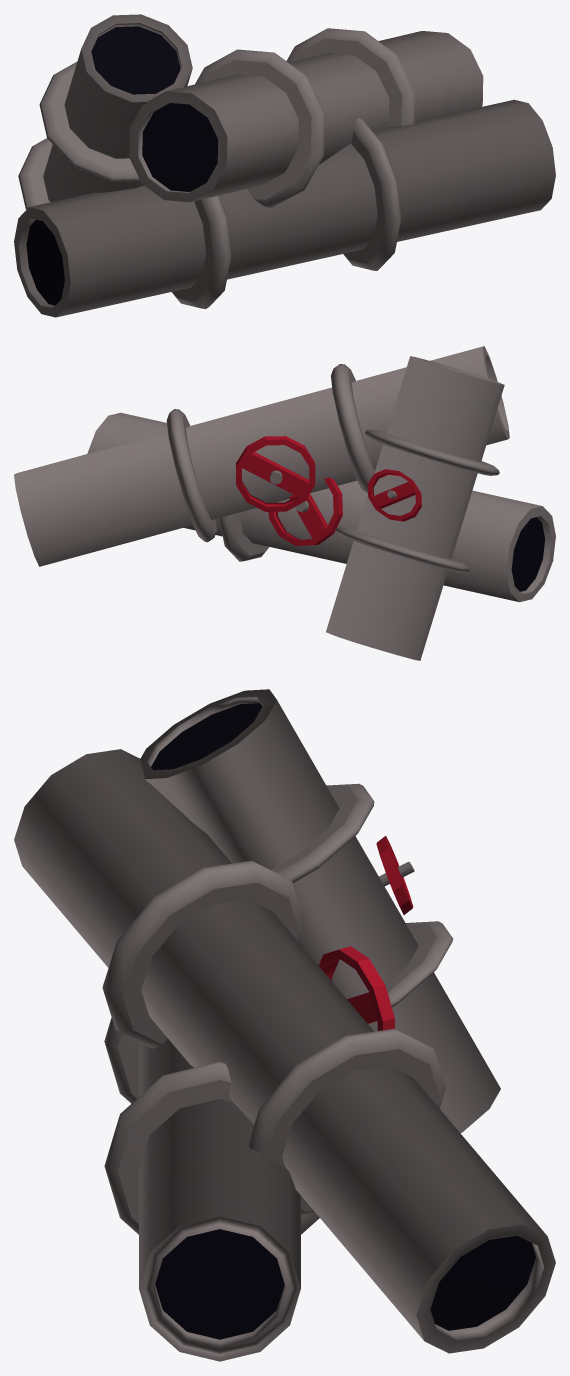
Rendered from SM_Pipes.fbx.
The picture shows the model from 3 angles, top to bottom: view 1: azimuth 30°, elevation 25°; view 2: azimuth 150°, elevation 25°; view 3: azimuth 270°, elevation 25°; orthographic projection. The views are drawn at different scales.
Parts seen in each view (by area): view 1: Pipes01; view 2: Pipes01; view 3: Pipes01.
Boxes of the visible parts, x1,y1,x2,y2 form: Pipes01: (14,14,555,317); Pipes01: (14,346,555,660); Pipes01: (14,689,555,1361).
Size of the model in its own units: 185 by 107 by 118.
